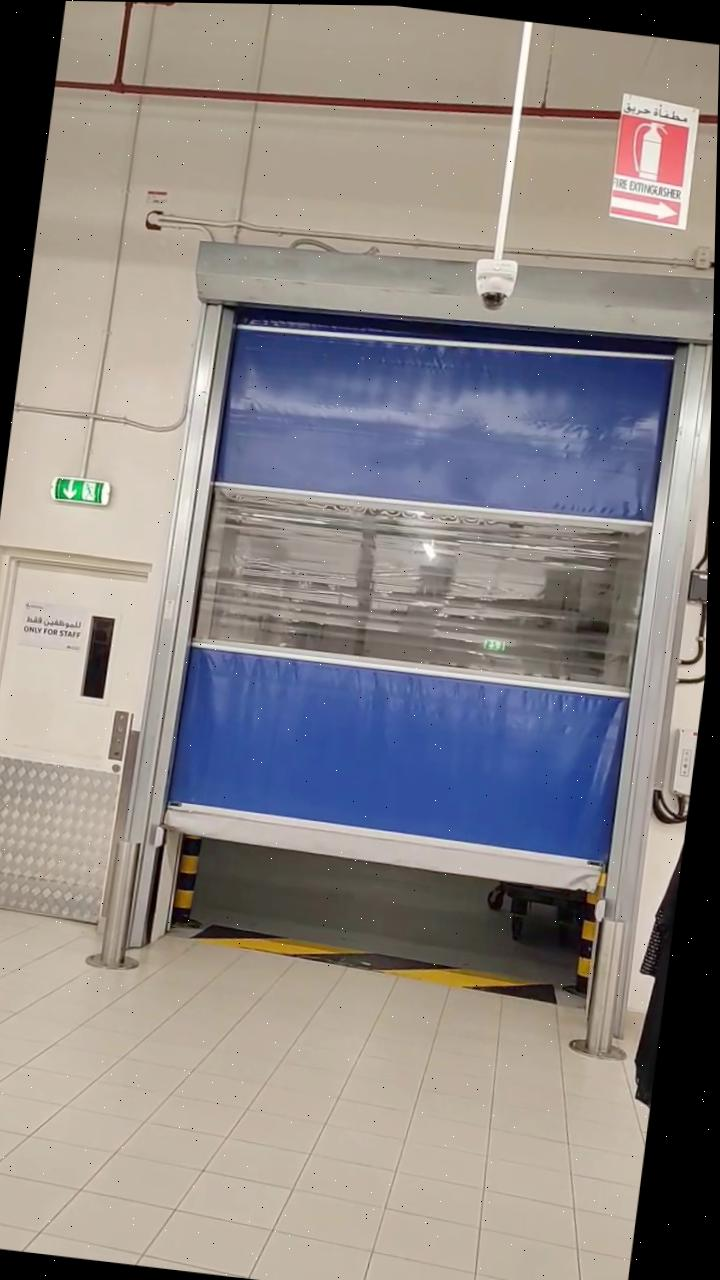Strip: (192, 917, 570, 1001)
